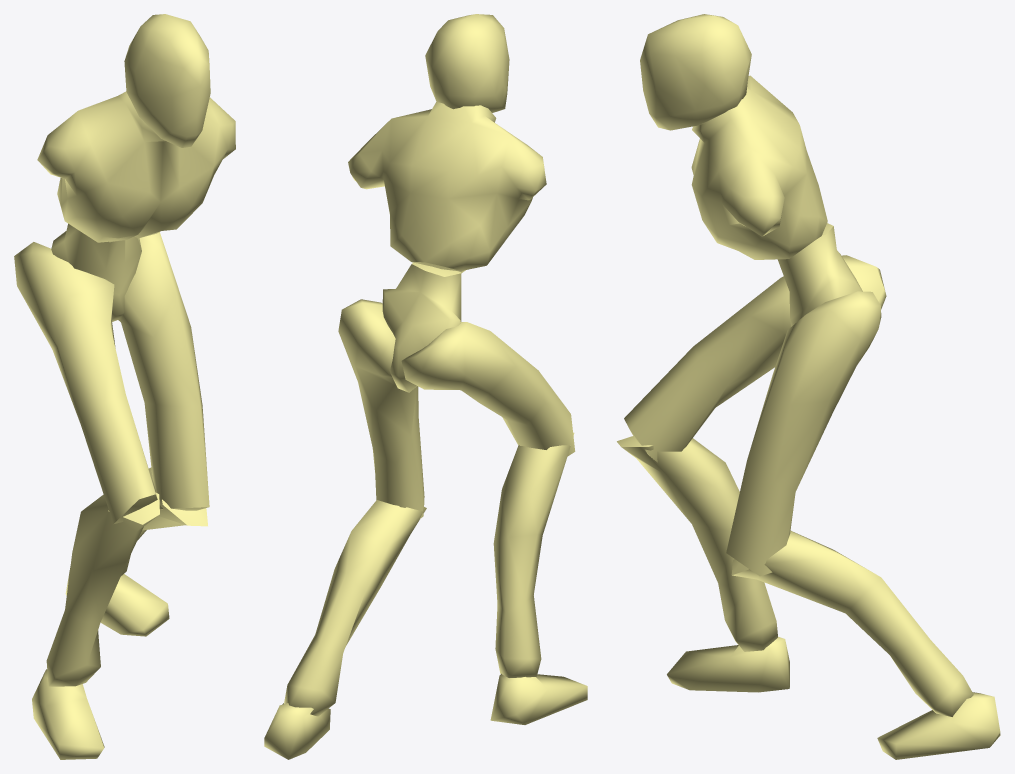
File: filth3.obj
The picture shows the model from 3 angles, left to right: view 1: azimuth 30°, elevation 25°; view 2: azimuth 150°, elevation 25°; view 3: azimuth 270°, elevation 25°; orthographic projection. The views are drawn at different scales.
Visible parts, largest first — view 1: Melee_Husk; view 2: Melee_Husk; view 3: Melee_Husk.
Part boxes in pixels (x1,y1,x2,y2): Melee_Husk: (14,14,235,759); Melee_Husk: (264,14,587,759); Melee_Husk: (617,14,1000,759).
Size of the model in its own units: 22.17 by 69.84 by 34.18.
